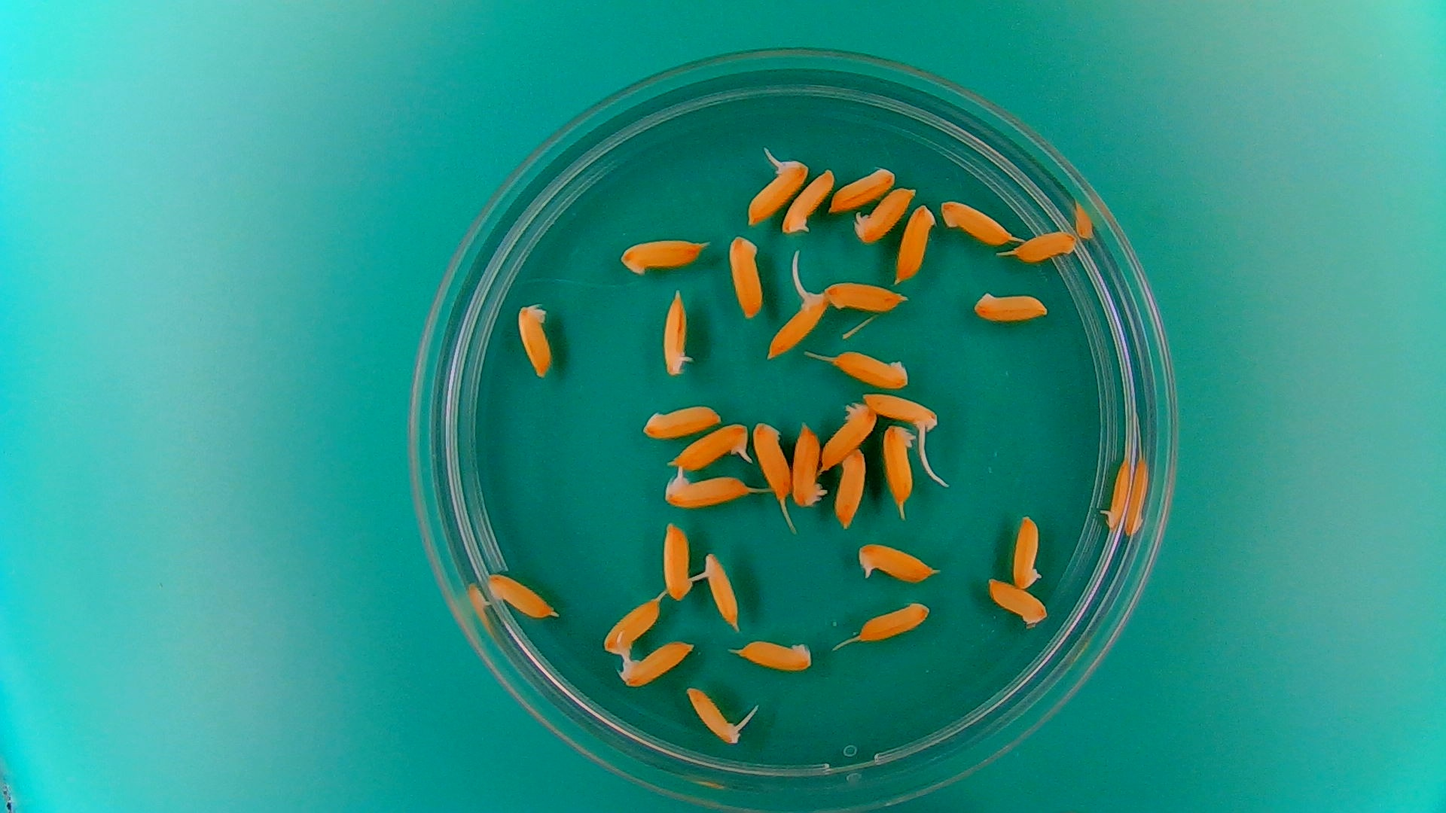no: (819, 397, 880, 473), (600, 591, 664, 659), (780, 163, 837, 236), (617, 638, 696, 690), (618, 234, 710, 278), (853, 184, 918, 245), (484, 569, 560, 620), (938, 196, 1017, 245), (751, 417, 794, 507), (880, 420, 920, 512), (855, 598, 934, 644), (828, 348, 912, 391), (828, 163, 900, 213), (894, 202, 938, 283), (984, 576, 1051, 629), (636, 401, 726, 440), (727, 232, 766, 321), (790, 419, 827, 510), (733, 635, 816, 675), (660, 517, 696, 608), (822, 278, 908, 315), (514, 300, 554, 379), (970, 287, 1050, 324), (833, 446, 867, 532), (1010, 510, 1044, 591), (1010, 228, 1078, 263)
yes: (668, 419, 754, 472), (744, 155, 804, 227), (770, 287, 829, 357), (854, 539, 940, 586), (661, 467, 752, 510), (657, 285, 695, 379), (684, 684, 743, 744), (864, 392, 942, 432), (702, 550, 740, 632), (1099, 453, 1135, 535)
